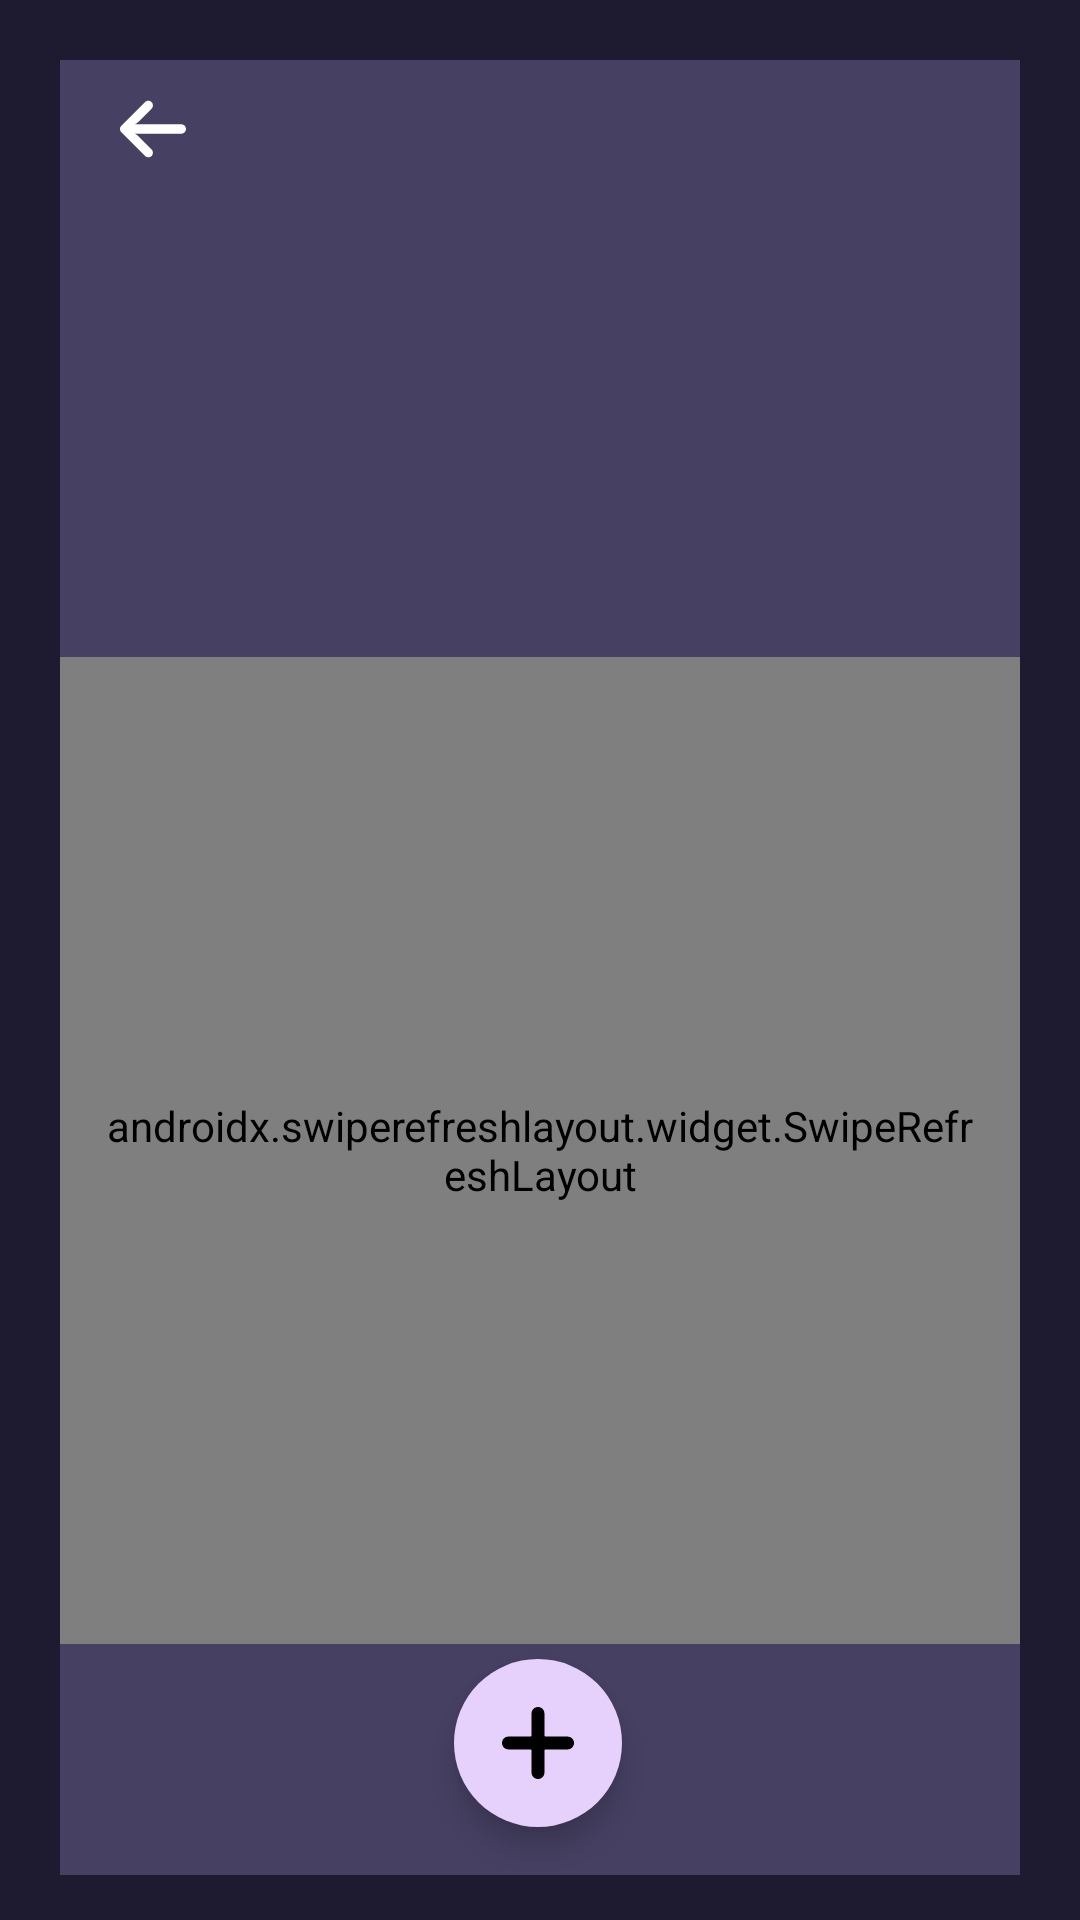

Screen size 1080w x 1920h. Icon name, then its box in pixels as BBox(x1, y1, x2, y2):
arrow: BBox(120, 100, 186, 158)
follow: BBox(454, 1659, 622, 1827)
